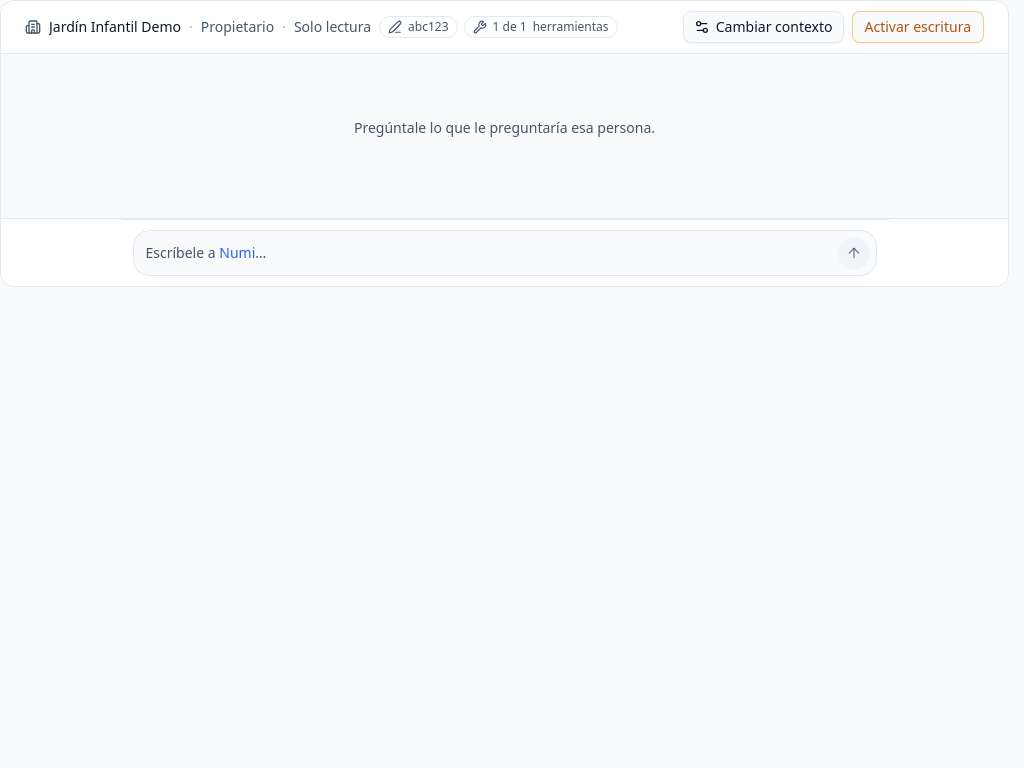
activar la escritura es una decisión, no un cambio de criterio
Click the button "Activar escritura" at (918, 27), box [852,11,984,43]
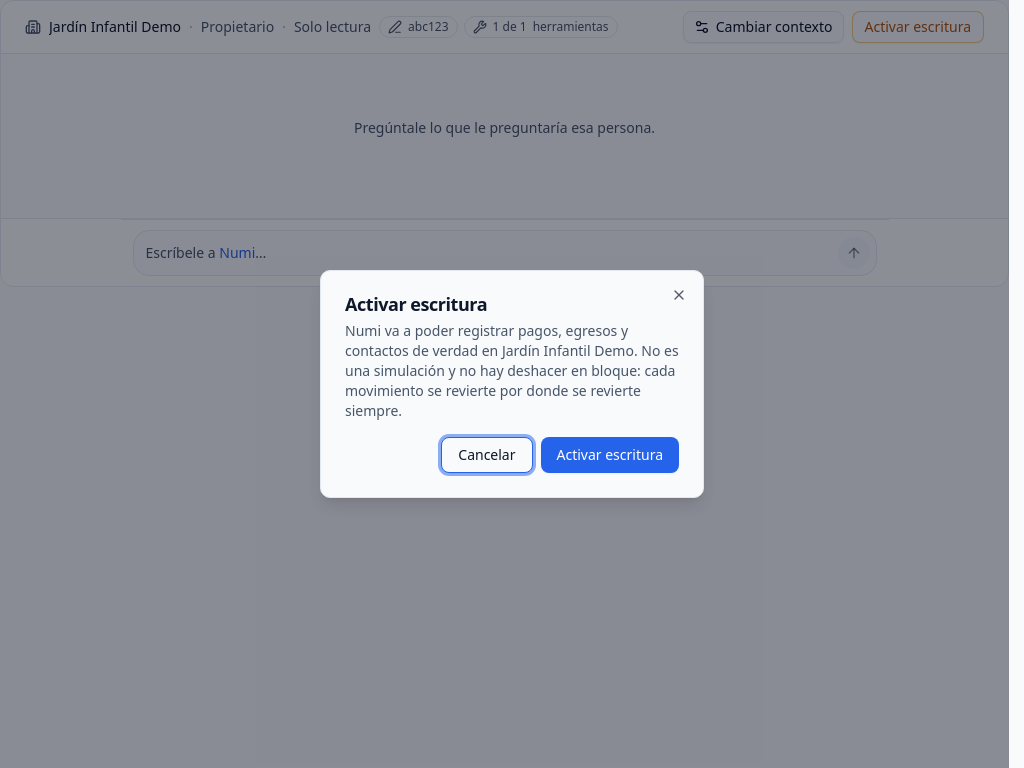
Expected: the text "no hay deshacer en bloque" is shown, [345,321,679,420]
# Y mientras está activo, la barra lo dice en vez de esconderlo.
Click the button "Activar escritura" at (610, 455), box [540,437,679,473]
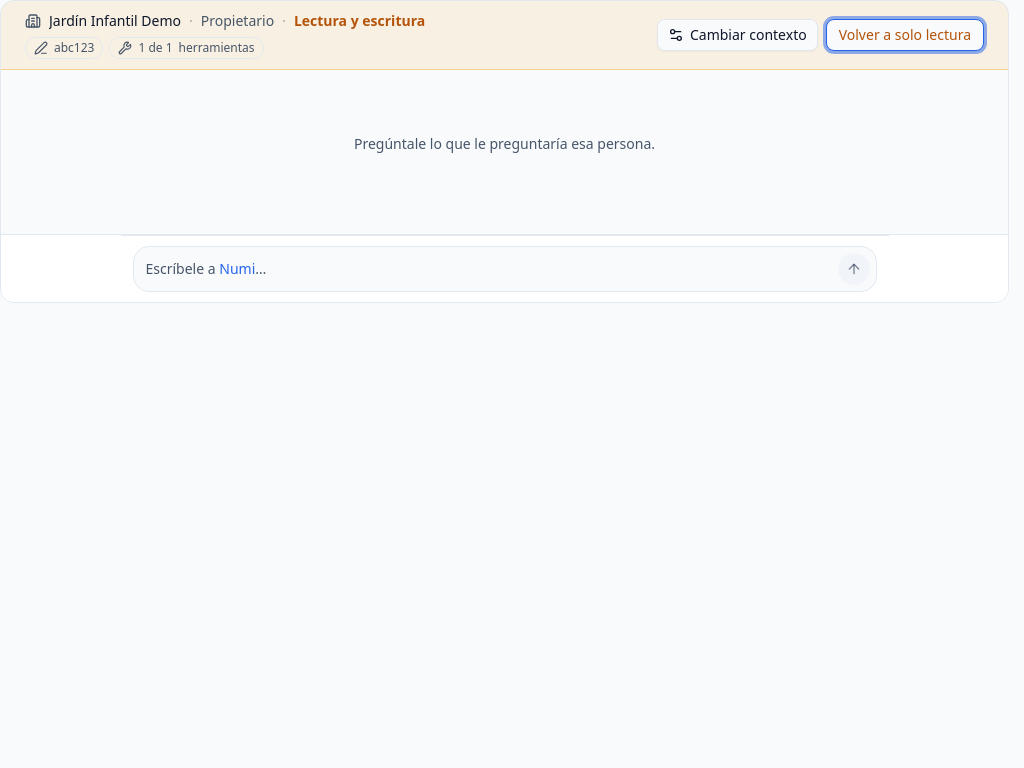
Expected: the text "Lectura y escritura" is shown, [294,11,425,31]
Expected: the button "Volver a solo lectura" is shown, [826,19,984,51]
